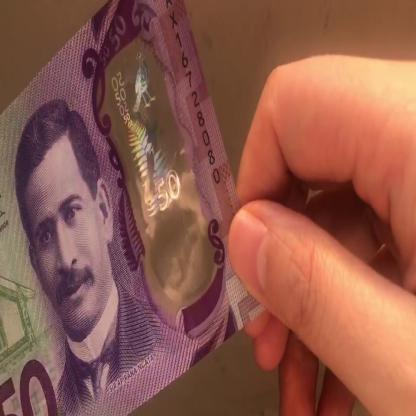50F: (110, 50, 192, 270)
